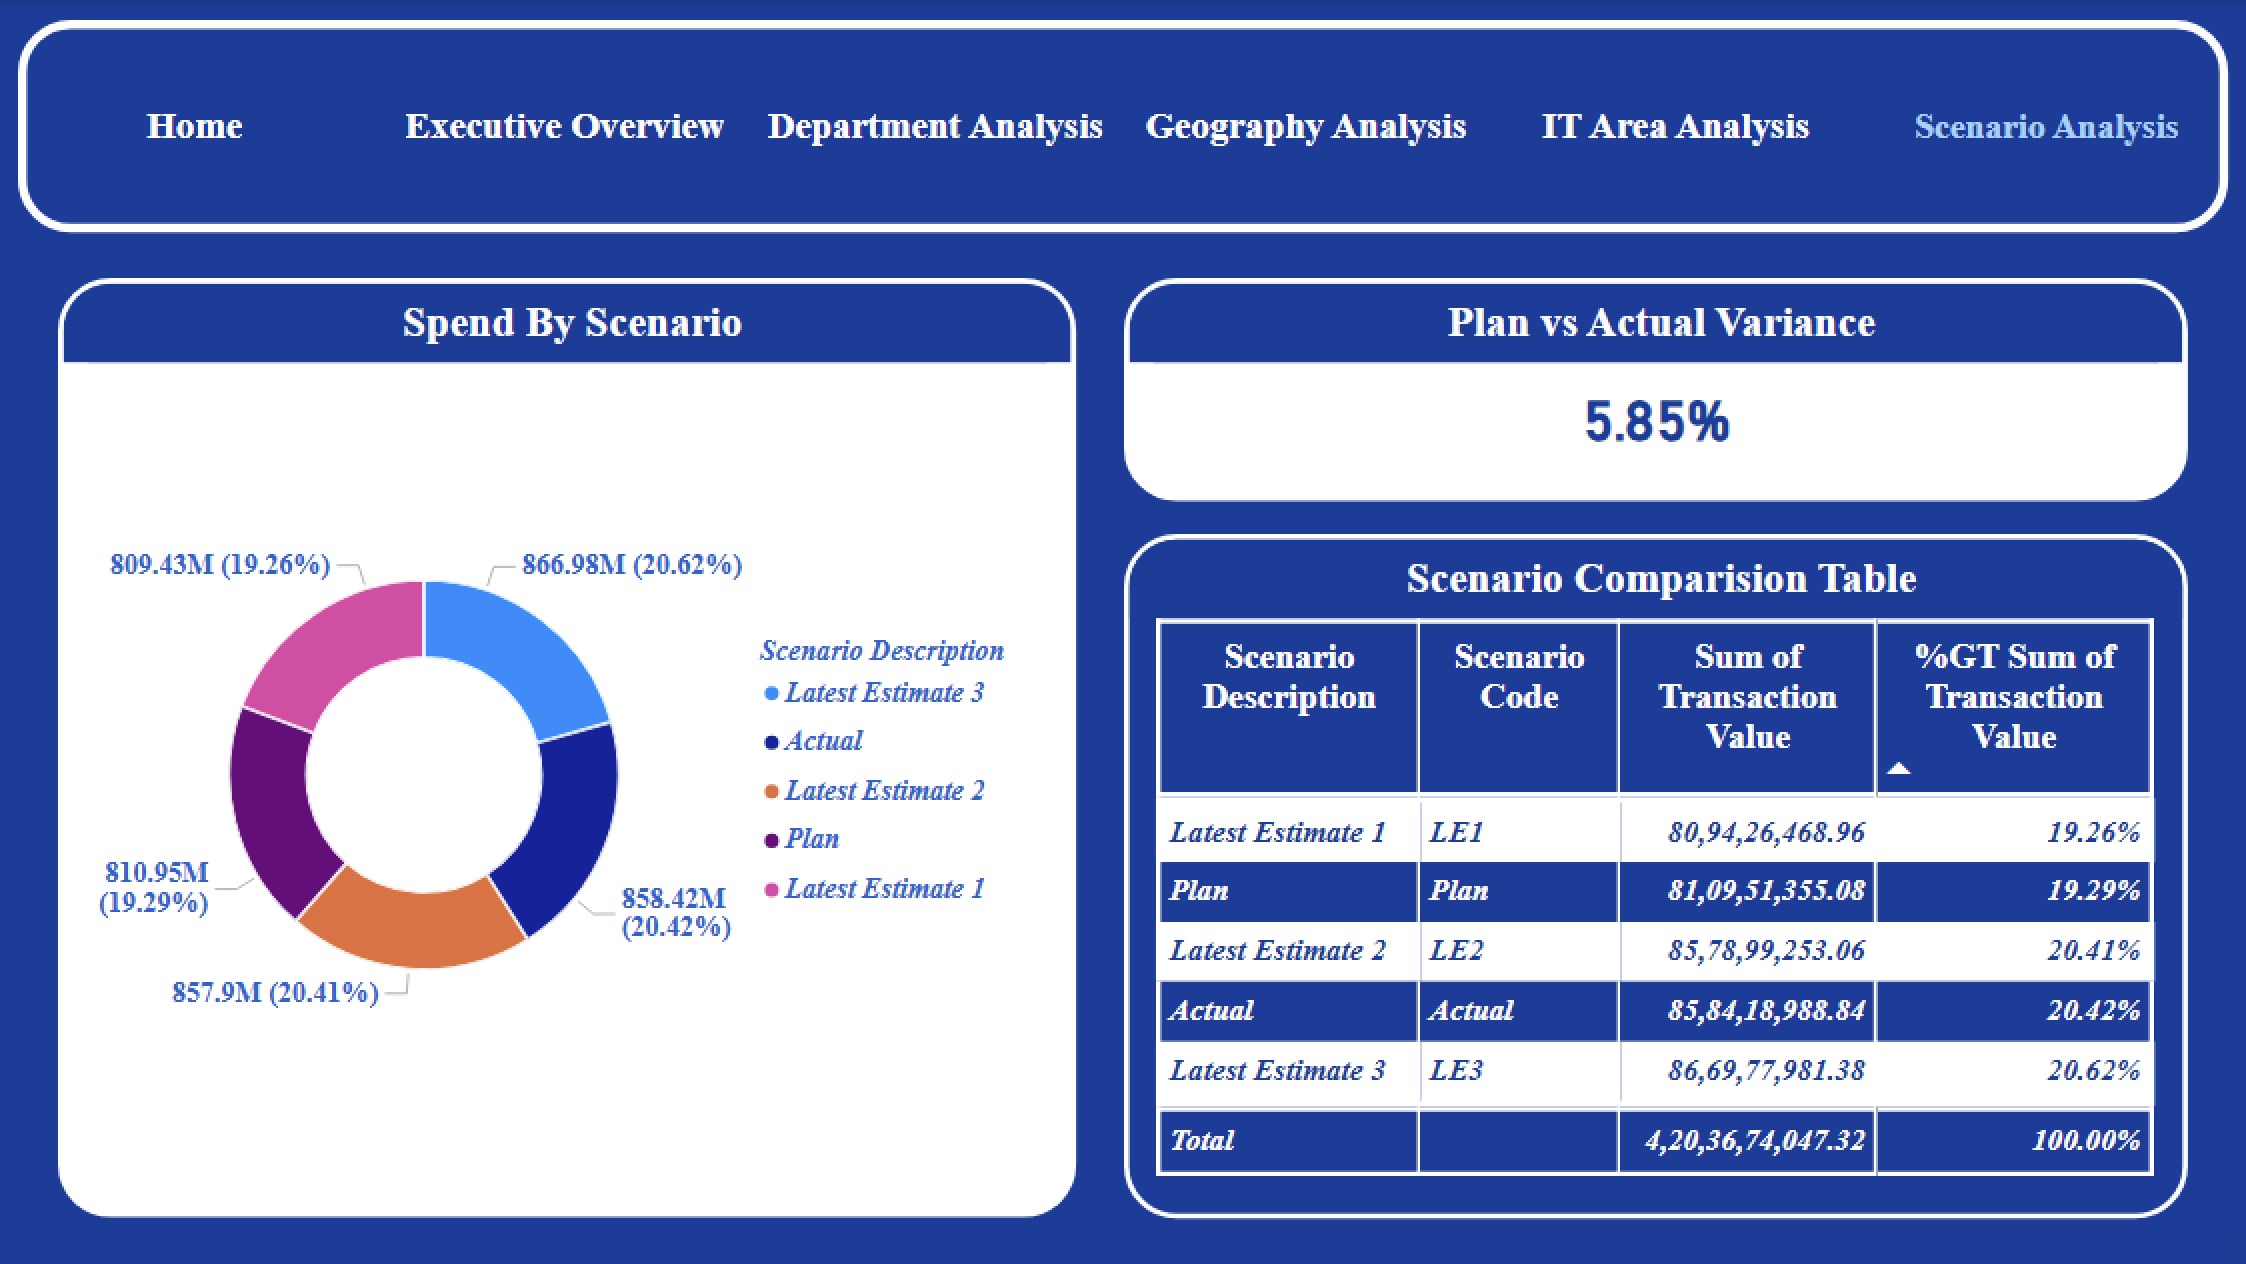

Layout of this report page (visuals, bound fields, positions):
{"tool":"powerbi","page":{"name":"Scenario Analysis","canvas":[1280,720],"ordinal":5},"visuals":[{"type":"textbox","box":[10.7,11.9,1258.7,120.9],"z":0},{"type":"card","title":"Plan vs Actual Variance","fields":{"Values":["Transaction.Plan Vs Actual Spend"]},"box":[640.7,158.5,606.3,126.8],"z":1000},{"type":"donutChart","title":"Spend By Scenario","fields":{"Category":["Scenario.Scenario Description"],"Y":["Sum(Transaction.Transaction Value)"]},"box":[33,158.5,579.9,535],"z":2000},{"type":"tableEx","title":"Scenario Comparision Table","fields":{"Values":["Scenario.Scenario Description","Scenario.Scenario Code","Sum(Transaction.Transaction Value)","Divide(Sum(Transaction.Transaction Value), ScopedEval(Sum(Transaction.Transaction Value), []))"]},"box":[640.7,303.8,606.3,389.7],"z":3000},{"type":"pageNavigator","box":[10.7,29.6,1259.9,85.3],"z":4000}]}

Visuals, with their boxes in screenshot pixels (x1, y1, x2, y2), scaled from the page's 1280x720 canvas onto the 2246x1264 screenshot:
textbox: <box>19,21,2227,233</box>
"Plan vs Actual Variance" card: <box>1124,278,2188,501</box>
"Spend By Scenario" donutChart: <box>58,278,1075,1217</box>
"Scenario Comparision Table" tableEx: <box>1124,533,2188,1217</box>
pageNavigator: <box>19,52,2230,202</box>
